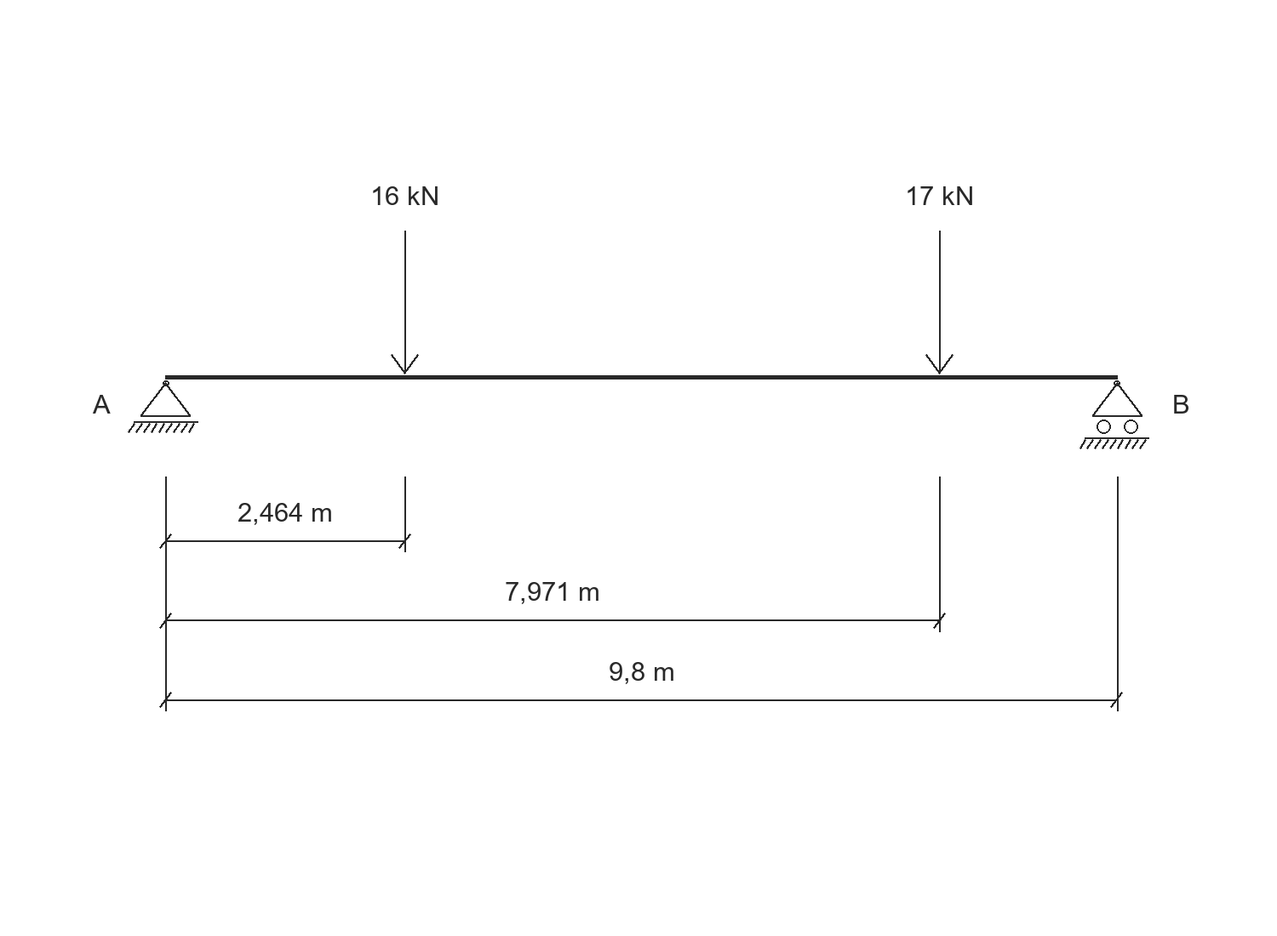pin_support: (128, 380, 198, 433)
point_load: (391, 231, 419, 374), (925, 231, 953, 374)
roller_support: (1079, 380, 1149, 449)
